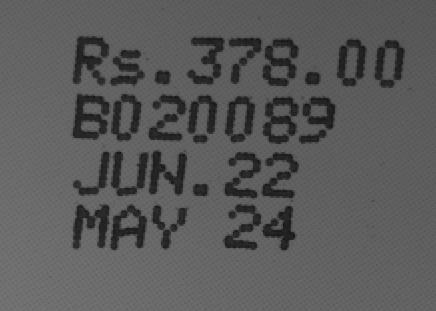.: (149, 61, 177, 90), (298, 66, 328, 90), (190, 178, 215, 202)
0: (370, 36, 411, 93), (333, 34, 371, 92), (184, 91, 222, 145), (110, 92, 145, 143), (223, 96, 259, 144)
2: (220, 147, 267, 201), (219, 199, 266, 253), (259, 149, 303, 199), (147, 93, 189, 145)
3: (184, 34, 228, 88)
4: (257, 201, 304, 256)
7: (221, 35, 266, 89)
8: (260, 36, 302, 89), (260, 95, 301, 144)
9: (297, 92, 338, 148)
A: (110, 205, 150, 250)
B: (71, 91, 112, 144)
J: (73, 149, 113, 198)
M: (70, 201, 114, 253)
N: (147, 150, 189, 197)
R: (71, 34, 111, 89)
S: (110, 49, 147, 90)
U: (110, 147, 150, 198)
Y: (144, 204, 190, 251)
